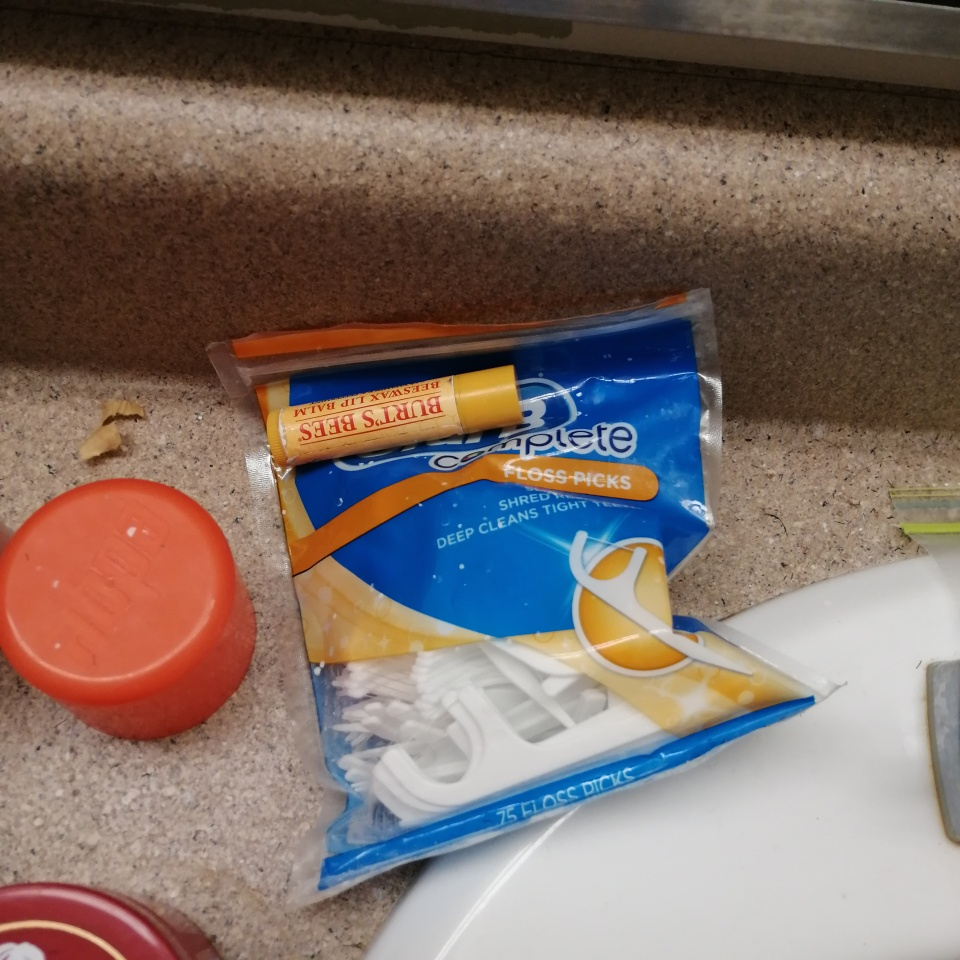chapstick: (266, 363, 523, 469)
